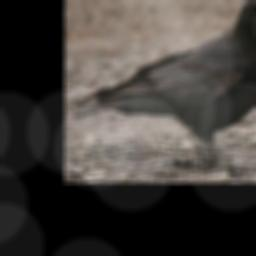Crow: (70, 0, 256, 174)
